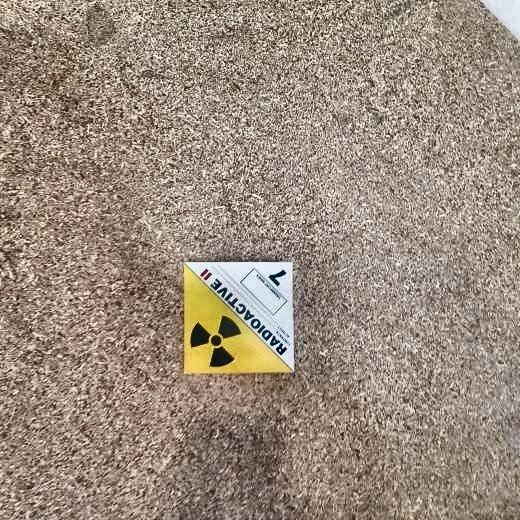radioactive: (182, 260, 296, 374)
